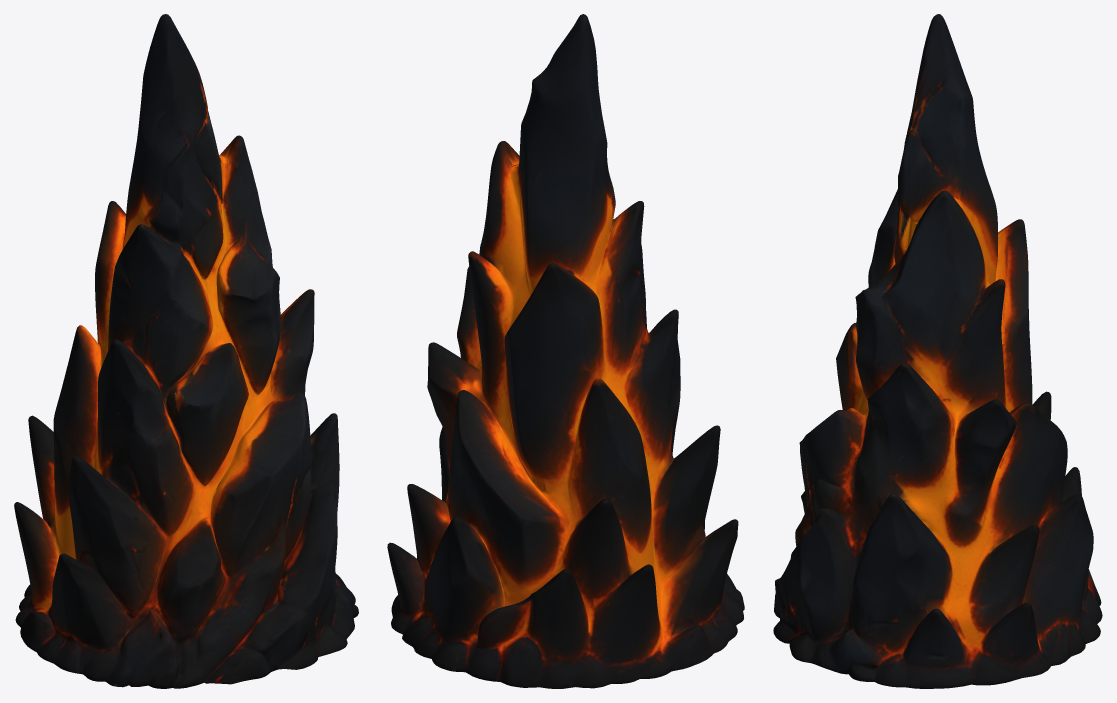
Rendered from lavaspike1.glb.
3 views of the same model, side by side, from view 1: azimuth 30°, elevation 25°; view 2: azimuth 150°, elevation 25°; view 3: azimuth 270°, elevation 25° (orthographic). The views are drawn at different scales.
Visible parts, largest first — view 1: node_0; view 2: node_0; view 3: node_0.
Boxes of the visible parts, x1=… form: node_0: x1=14, y1=14, x2=358, y2=688; node_0: x1=387, y1=14, x2=744, y2=688; node_0: x1=773, y1=14, x2=1102, y2=688.
Size of the model in its own units: 0.5502 by 1.06 by 0.5313.
1 material, 1 textured.
